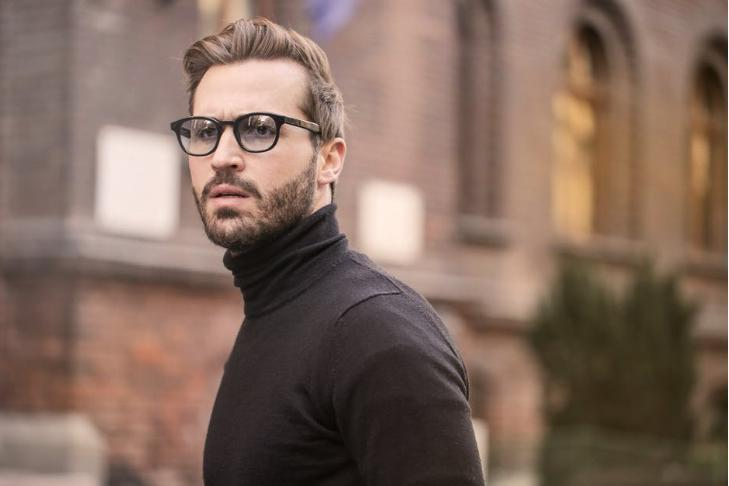face: (185, 62, 309, 243)
